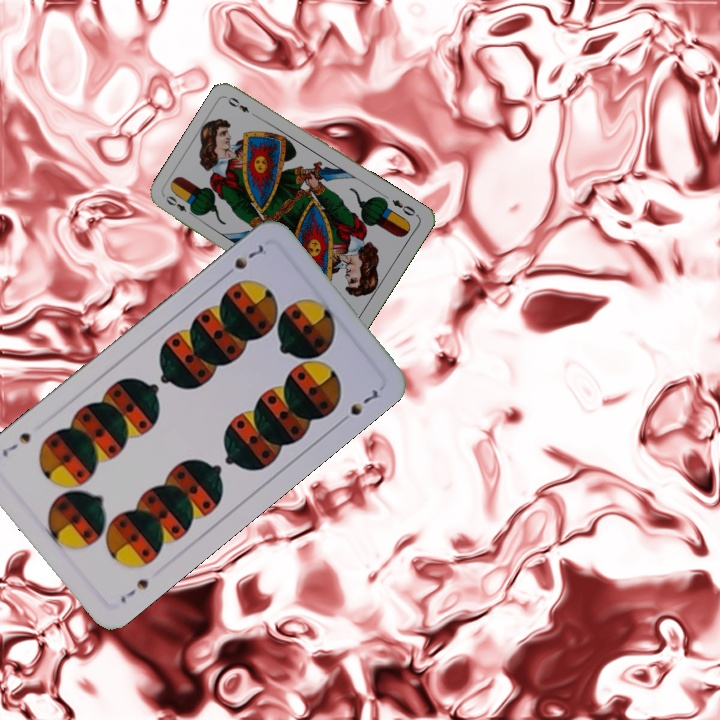EO: (161, 192, 198, 219), (388, 195, 421, 219)
S7: (219, 240, 267, 281), (116, 574, 151, 606)
